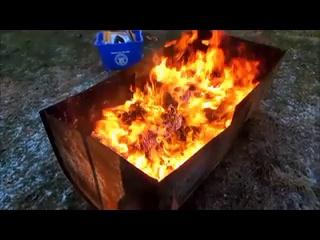fire: (94, 31, 268, 182)
